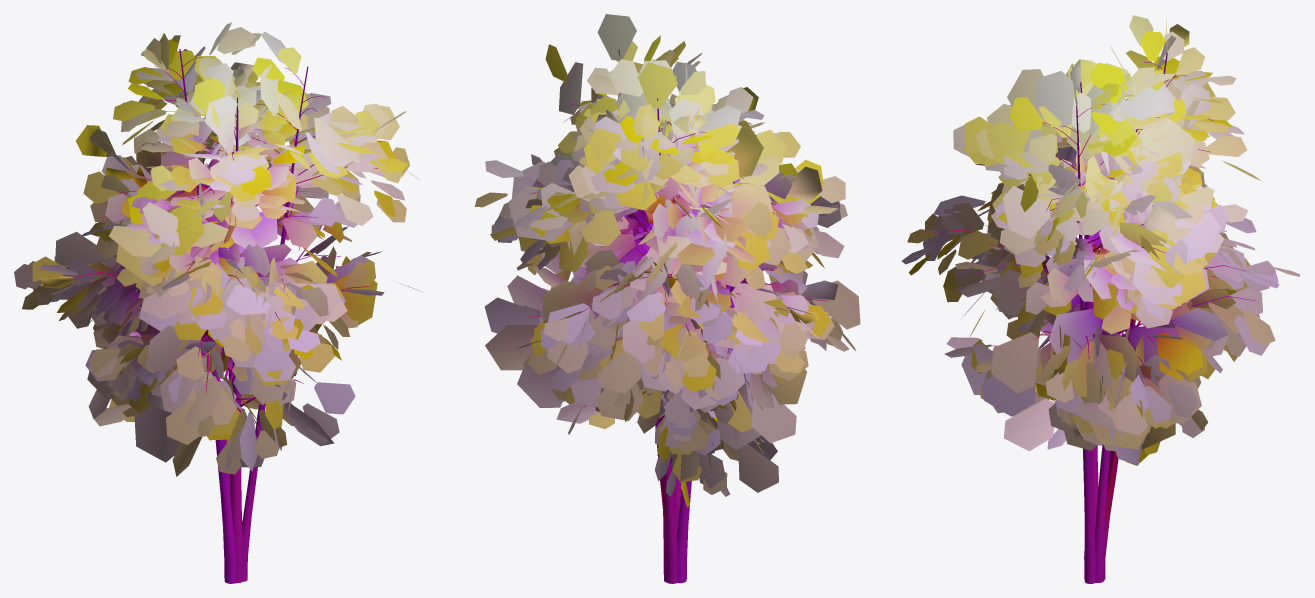
File: birch.glb
3 views of the same model, side by side, from view 1: azimuth 30°, elevation 25°; view 2: azimuth 150°, elevation 25°; view 3: azimuth 270°, elevation 25° (orthographic).
Parts seen in each view (by area): view 1: birch_v1_lod0, birch_v0_lod0, birch_v2_lod0; view 2: birch_v1_lod0, birch_v2_lod0, birch_v0_lod0; view 3: birch_v1_lod0, birch_v2_lod0, birch_v0_lod0.
Part boxes in pixels (left/top/right/bottom): birch_v1_lod0: left=54, top=31, right=423, bottom=583; birch_v0_lod0: left=14, top=56, right=409, bottom=583; birch_v2_lod0: left=50, top=22, right=357, bottom=492; birch_v1_lod0: left=475, top=14, right=860, bottom=583; birch_v2_lod0: left=520, top=59, right=844, bottom=583; birch_v0_lod0: left=558, top=61, right=849, bottom=534; birch_v1_lod0: left=933, top=62, right=1299, bottom=583; birch_v2_lod0: left=943, top=15, right=1260, bottom=582; birch_v0_lod0: left=902, top=59, right=1254, bottom=578.
Size of what is drawn, in the model's own units: 10.29 by 14.76 by 9.87.
